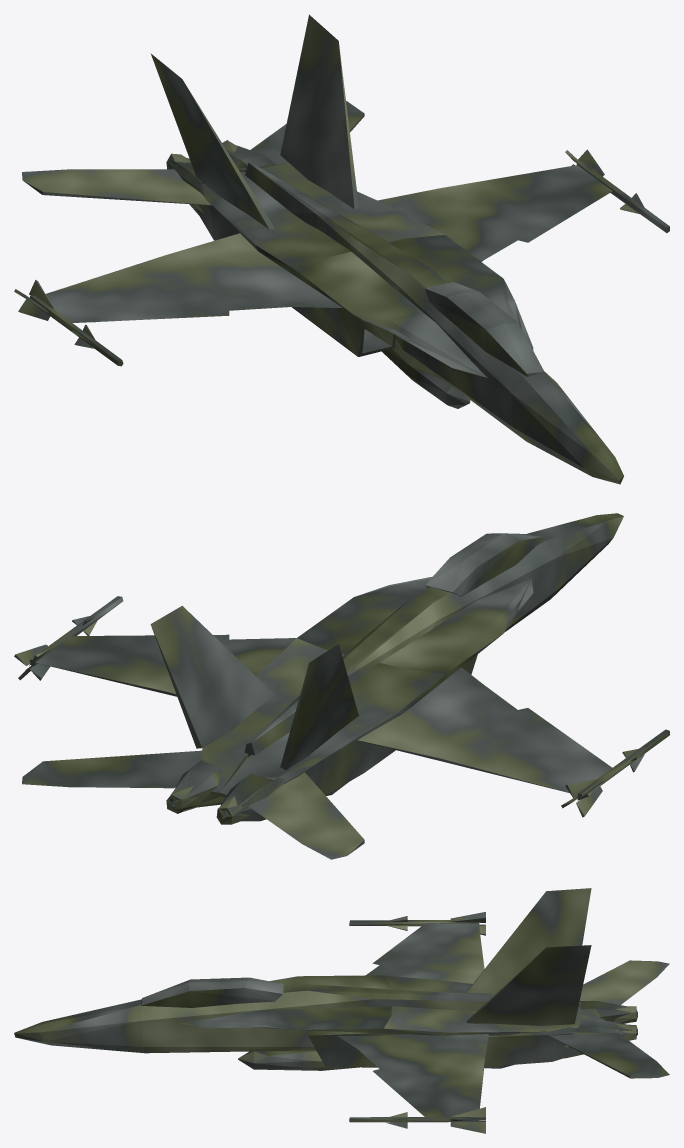
File: f18hornet.obj
The picture shows the model from 3 angles, top to bottom: view 1: azimuth 30°, elevation 25°; view 2: azimuth 150°, elevation 25°; view 3: azimuth 270°, elevation 25°; orthographic projection. The views are drawn at different scales.
Visible parts, largest first — view 1: Cylinder; view 2: Cylinder; view 3: Cylinder.
Part boxes in pixels (x1=…): Cylinder: x1=14, y1=14, x2=669, y2=484; Cylinder: x1=14, y1=513, x2=669, y2=859; Cylinder: x1=14, y1=888, x2=669, y2=1133.
Size of the model in its own units: 23.45 by 8.09 by 31.46.
